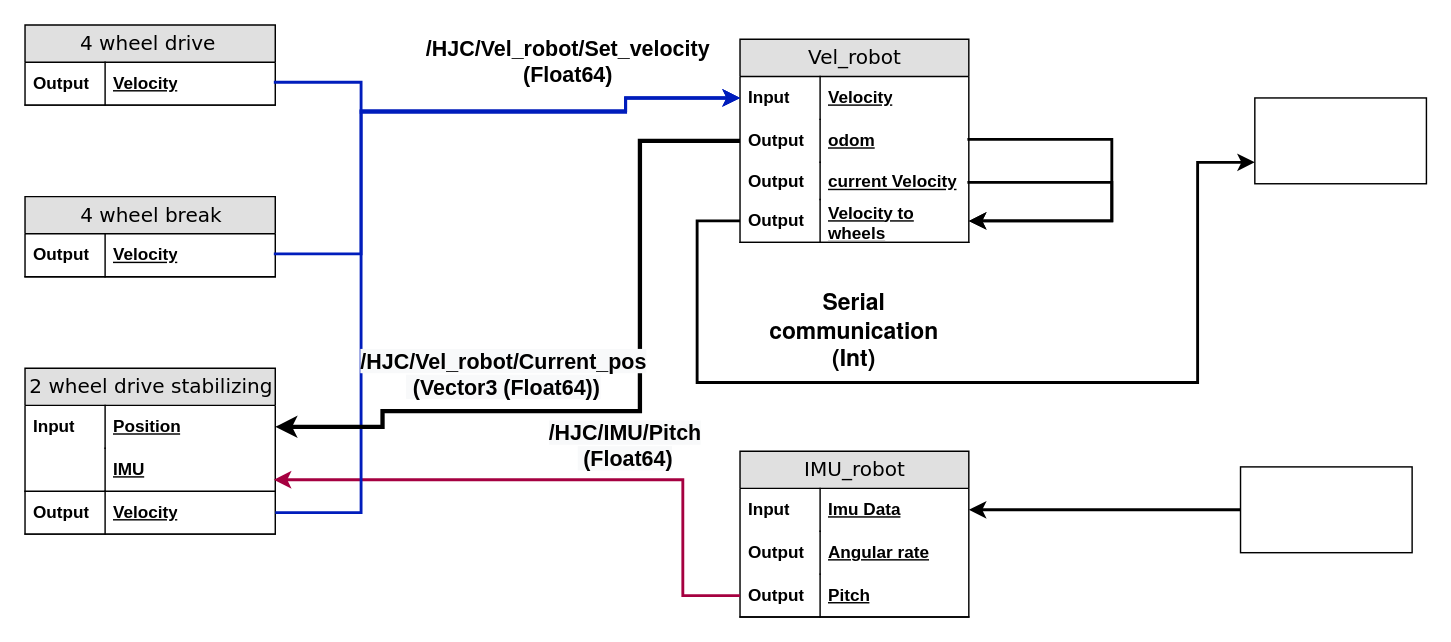
Some shapes in this 1451 by 642 pixel diagram are drawn without their labels. The shapes that lost their labels are listed below. From the top down, each one's centre as x and y in pixels, then its label:
the point at 1339,140: Wheel Actuators
the point at 1325,509: Real world - simulation
